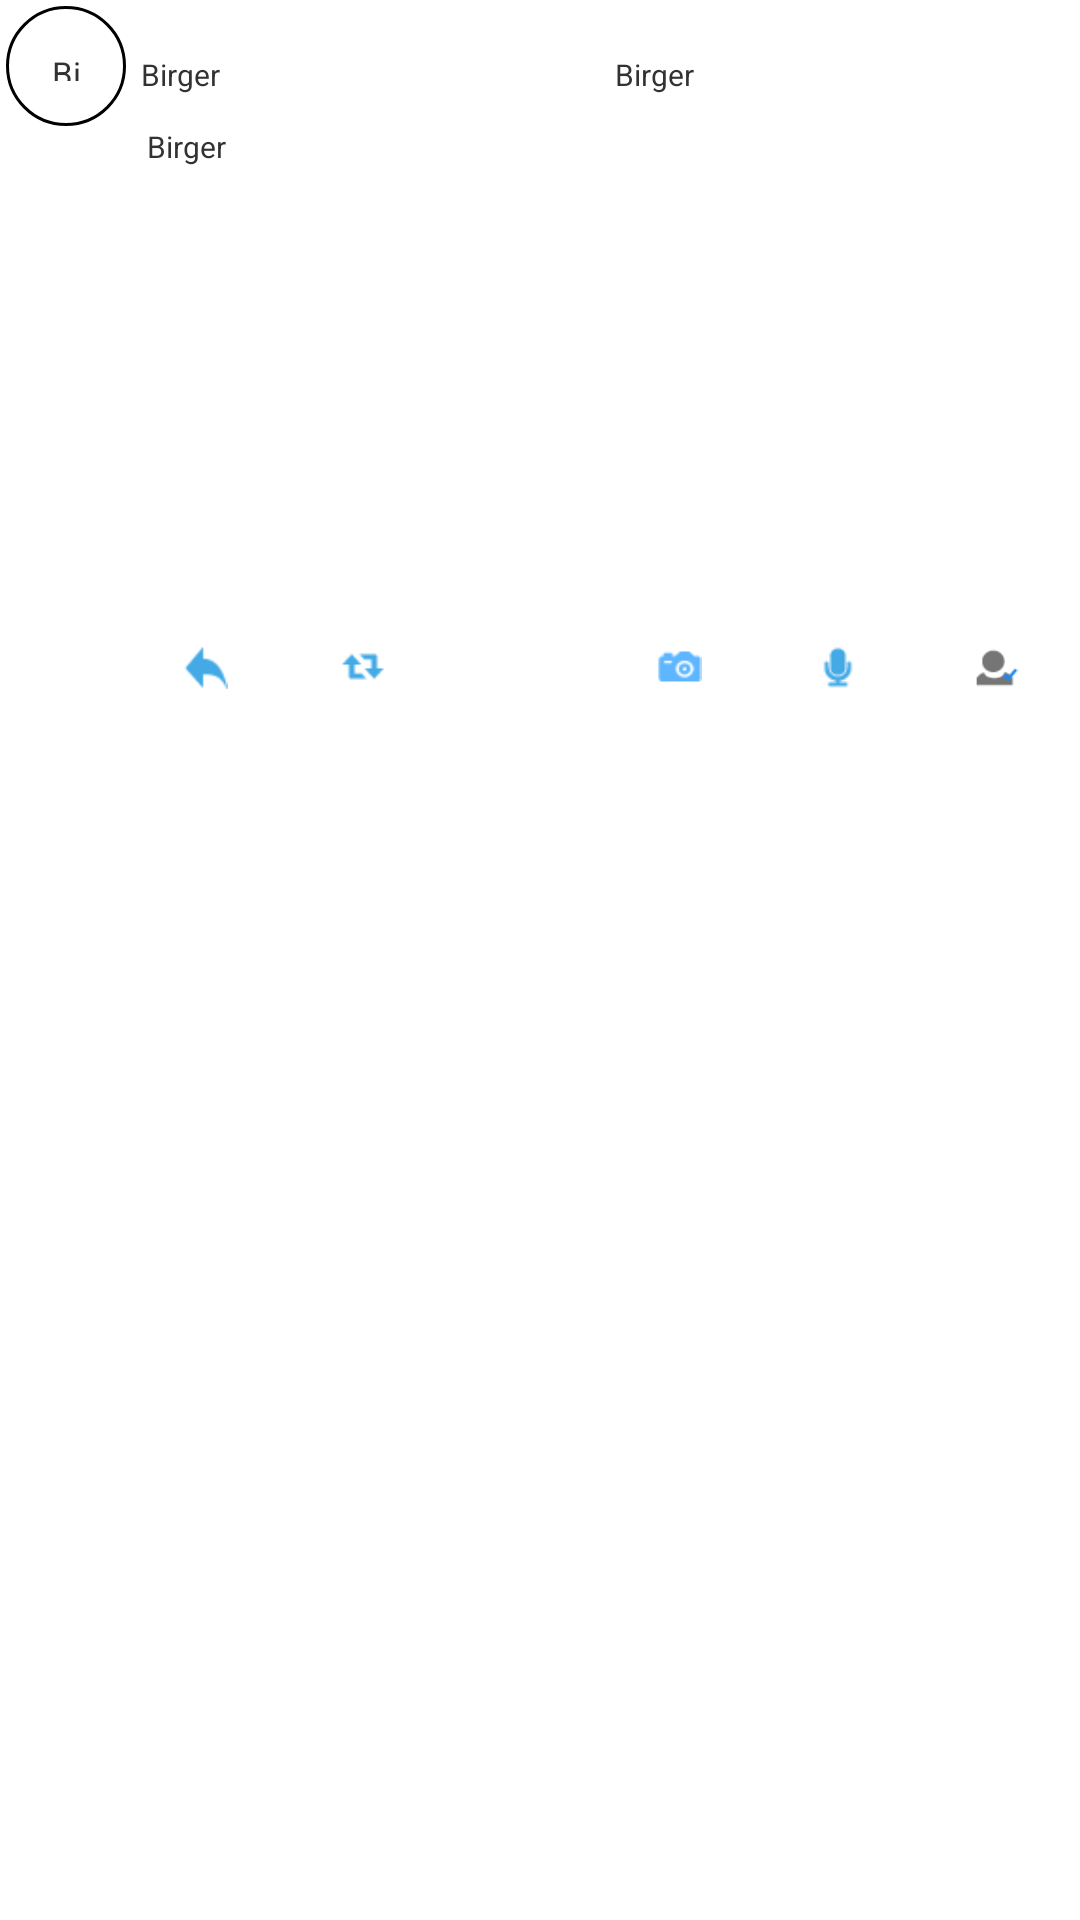

Named icons in this screenshot (1080w x 1920h) and their bounding boxes, [x1, y1, x2, y2]:
camera: [658, 651, 702, 682]
recorder: [823, 647, 852, 688]
reply: [185, 647, 228, 689]
retweet: [342, 653, 384, 680]
